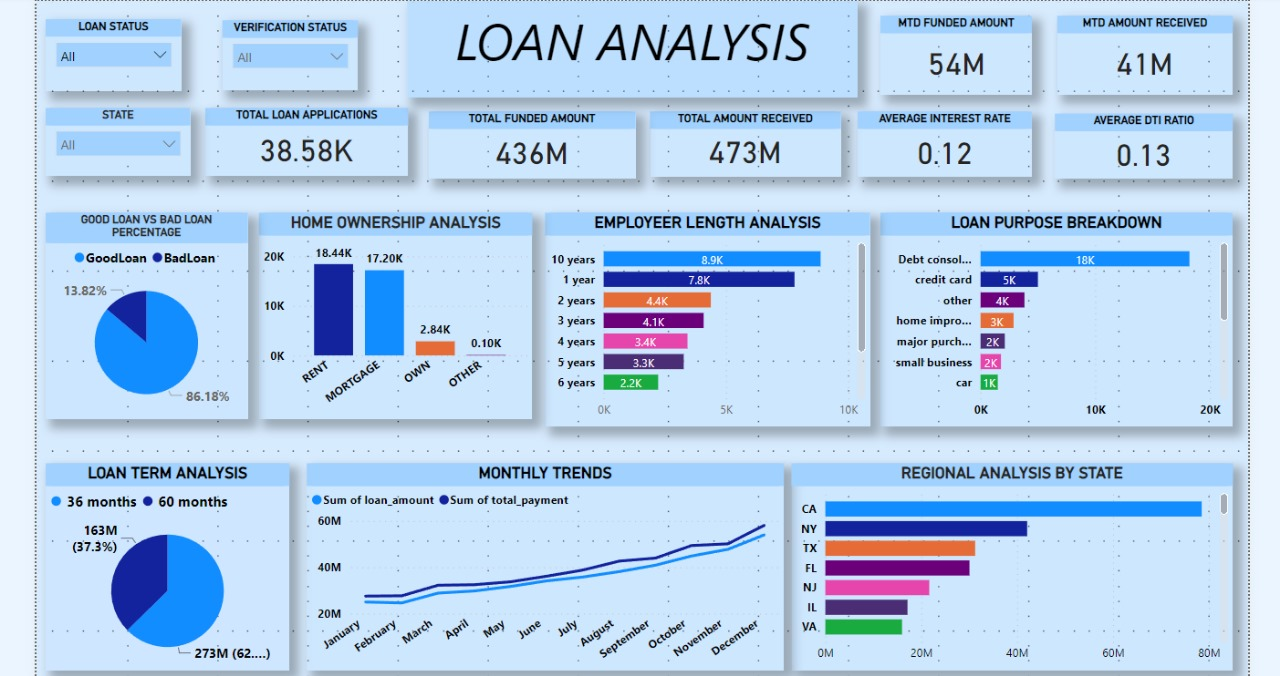

The page's visual inventory and layout, read from the dashboard file:
{"tool":"powerbi","page":{"name":"Dashboard","canvas":[1280,720],"ordinal":0},"visuals":[{"type":"card","title":"TOTAL LOAN APPLICATIONS","fields":{"Values":["Sheet1.Total_Applications"]},"box":[178.3,113.3,214.5,72.3],"z":0},{"type":"card","title":"TOTAL AMOUNT RECEIVED","fields":{"Values":["Sum(Sheet1.total_payment)"]},"box":[648.2,116.9,201.2,68.7],"z":1000},{"type":"card","title":"TOTAL FUNDED AMOUNT","fields":{"Values":["Sum(Sheet1.loan_amount)"]},"box":[414.5,116.9,218.1,71.1],"z":2000},{"type":"textbox","box":[391.6,0,475.9,102.4],"z":3000},{"type":"card","title":"MTD FUNDED AMOUNT","fields":{"Values":["Sheet1.MTD Funded Amount"]},"box":[891.6,15.7,160.2,83.1],"z":4000},{"type":"card","title":"MTD AMOUNT RECEIVED","fields":{"Values":["Sheet1.MTD Amount Received"]},"box":[1078.3,15.7,185.5,83.1],"z":5000},{"type":"card","title":"AVERAGE INTEREST RATE","fields":{"Values":["Avg(Sheet1.int_rate)"]},"box":[867.5,116.9,184.3,69.9],"z":6000},{"type":"card","title":"AVERAGE DTI RATIO","fields":{"Values":["Avg(Sheet1.dti)"]},"box":[1075.9,119.3,188,68.7],"z":7000},{"type":"lineChart","title":"MONTHLY TRENDS ","fields":{"Category":["Sheet1.issue_date.Variation.Date Hierarchy.Month","Sheet1.issue_date.Variation.Date Hierarchy.Day"],"Y2":["Sum(Sheet1.total_payment)"],"Y":["Sum(Sheet1.loan_amount)"]},"box":[285.5,489.2,503.6,219.3],"z":8000},{"type":"barChart","title":"REGIONAL ANALYSIS BY STATE","fields":{"Category":["Sheet1.address_state"],"Series":["Sheet1.address_state"],"Y":["Sum(Sheet1.loan_amount)"]},"box":[797.6,489.2,466.3,219.3],"z":9000},{"type":"pieChart","title":"LOAN TERM ANALYSIS","fields":{"Category":["Sheet1.term"],"Y":["Sum(Sheet1.loan_amount)"]},"box":[9.6,489.2,257.8,219.3],"z":10000},{"type":"barChart","title":"LOAN PURPOSE BREAKDOWN","fields":{"Category":["Sheet1.purpose"],"Y":["CountNonNull(Sheet1.loan_amount)"],"Series":["Sheet1.purpose"]},"box":[891.6,224.1,372.3,226.5],"z":11000},{"type":"barChart","title":"EMPLOYEER LENGTH ANALYSIS","fields":{"Category":["Sheet1.emp_length"],"Y":["CountNonNull(Sheet1.loan_amount)"],"Series":["Sheet1.emp_length"]},"box":[537.3,224.1,343.4,226.5],"z":12000},{"type":"columnChart","title":"HOME OWNERSHIP ANALYSIS","fields":{"Category":["Sheet1.home_ownership"],"Y":["CountNonNull(Sheet1.loan_amount)"],"Series":["Sheet1.home_ownership"]},"box":[234.9,224.1,289.2,218.1],"z":13000},{"type":"slicer","title":"LOAN STATUS","fields":{"Values":["Sheet1.loan_status"]},"box":[9.6,19.3,143.4,75.9],"z":14000},{"type":"slicer","title":"VERIFICATION STATUS","fields":{"Values":["Sheet1.verification_status"]},"box":[196.4,20.5,143.4,74.7],"z":15000},{"type":"pieChart","title":"GOOD LOAN VS BAD LOAN PERCENTAGE","fields":{"Y":["Sheet1.GoodLoanApplicationPercentage","Sheet1.BadLoanApplicationPercentage"]},"box":[9.6,224.1,213.3,218.1],"z":16000},{"type":"slicer","title":"STATE","fields":{"Values":["Sheet1.address_state"]},"box":[9.6,113.3,153,72.3],"z":17000}]}

Visuals, with their boxes on the page's 1280x720 design canvas (x1, y1, x2, y2). These are canvas units, not pixel positions in the 1280x676 screenshot, which may show the page scaled, cropped or inside an application window:
"TOTAL LOAN APPLICATIONS" card: <region>178, 113, 393, 186</region>
"TOTAL AMOUNT RECEIVED" card: <region>648, 117, 849, 186</region>
"TOTAL FUNDED AMOUNT" card: <region>414, 117, 633, 188</region>
textbox: <region>392, 0, 868, 102</region>
"MTD FUNDED AMOUNT" card: <region>892, 16, 1052, 99</region>
"MTD AMOUNT RECEIVED" card: <region>1078, 16, 1264, 99</region>
"AVERAGE INTEREST RATE" card: <region>868, 117, 1052, 187</region>
"AVERAGE DTI RATIO" card: <region>1076, 119, 1264, 188</region>
"MONTHLY TRENDS " lineChart: <region>286, 489, 789, 708</region>
"REGIONAL ANALYSIS BY STATE" barChart: <region>798, 489, 1264, 708</region>
"LOAN TERM ANALYSIS" pieChart: <region>10, 489, 267, 708</region>
"LOAN PURPOSE BREAKDOWN" barChart: <region>892, 224, 1264, 451</region>
"EMPLOYEER LENGTH ANALYSIS" barChart: <region>537, 224, 881, 451</region>
"HOME OWNERSHIP ANALYSIS" columnChart: <region>235, 224, 524, 442</region>
"LOAN STATUS" slicer: <region>10, 19, 153, 95</region>
"VERIFICATION STATUS" slicer: <region>196, 20, 340, 95</region>
"GOOD LOAN VS BAD LOAN PERCENTAGE" pieChart: <region>10, 224, 223, 442</region>
"STATE" slicer: <region>10, 113, 163, 186</region>
